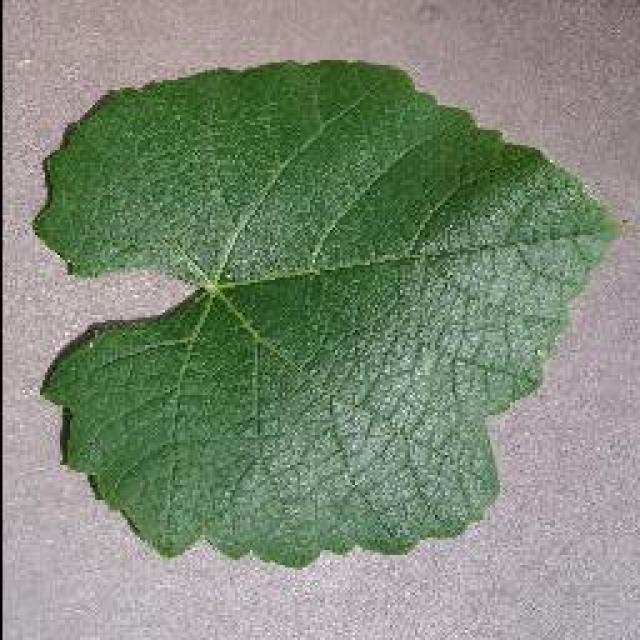Grape___healthy: (35, 62, 608, 562)
